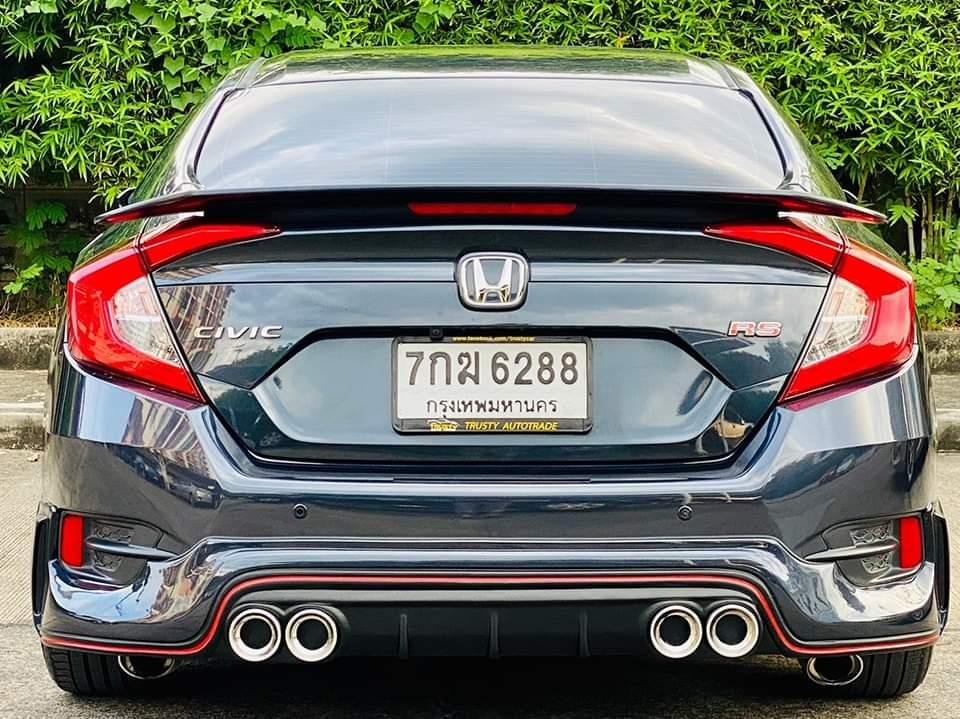license-plate: (389, 330, 596, 437)
